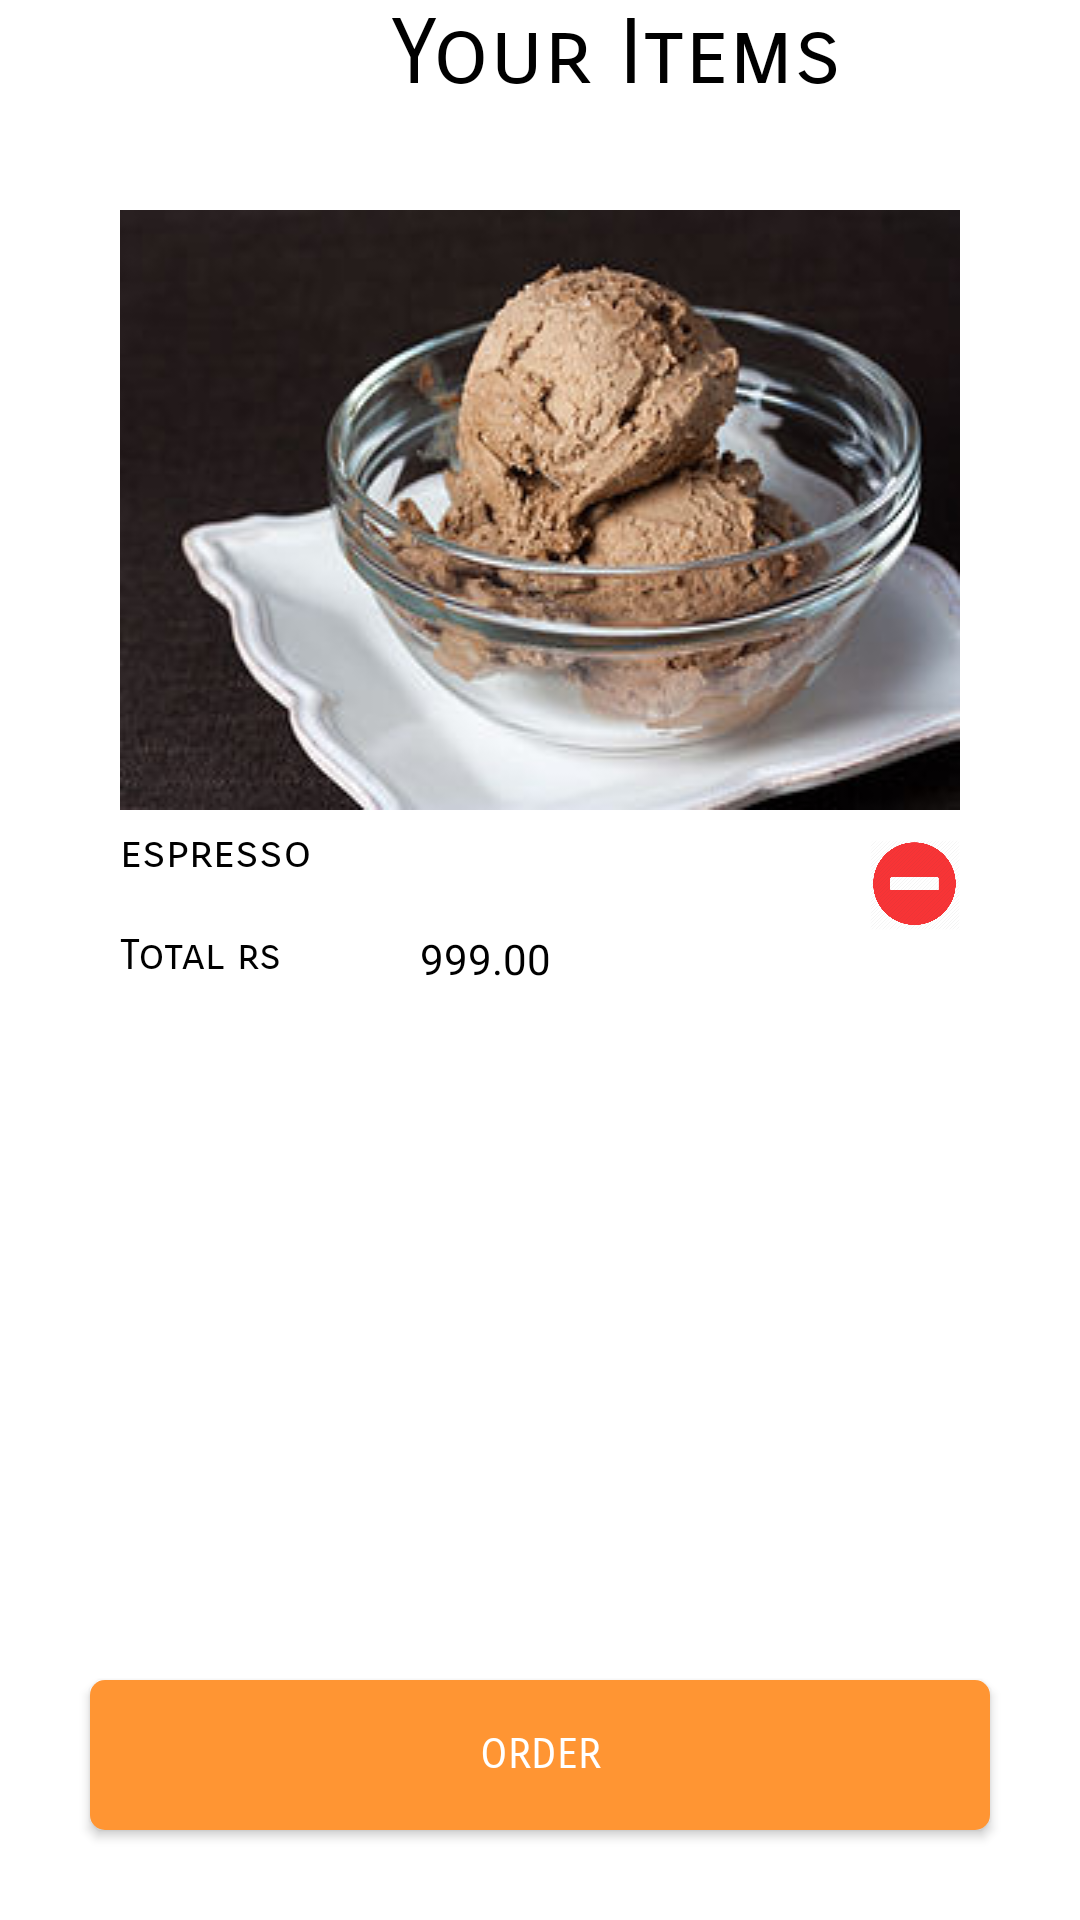

Icons on this 1080 × 1920 Android screen, each with its box as (x1, y1, x2, y2):
minus: (873, 842, 956, 925)
